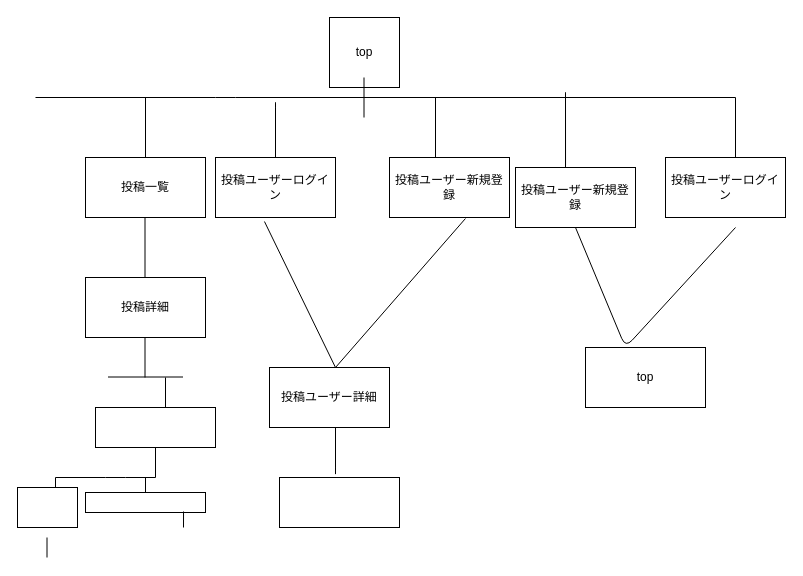
Image size: 803x576. Some labels were removed from this diagram. Each missing label, with the centre of its shape:
"ご意見投稿" belongs at (x=339, y=502).
"ユーザー詳細" belongs at (x=145, y=502).
"店舗回答" belongs at (x=155, y=427).
"新規投稿（返信「）" belongs at (x=47, y=507).
